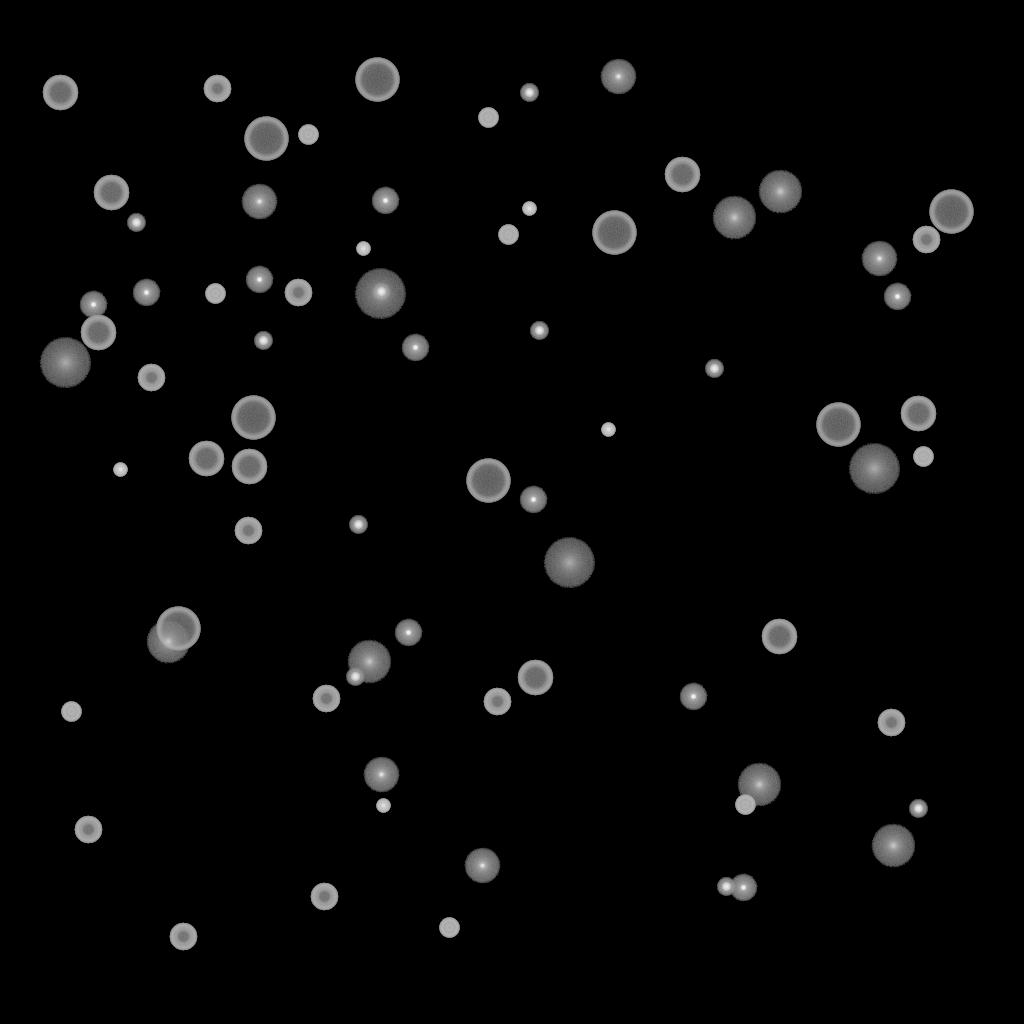depth:-10: (371, 187, 399, 215), (883, 283, 911, 311), (132, 279, 160, 307), (245, 266, 273, 294), (729, 874, 757, 902), (401, 334, 429, 362), (519, 486, 547, 514), (394, 619, 422, 647), (679, 683, 707, 711), (79, 291, 107, 319)
depth:-20: (254, 332, 272, 350), (705, 360, 723, 378), (530, 322, 548, 340), (127, 214, 145, 232), (349, 516, 367, 534), (717, 878, 735, 896), (520, 84, 538, 102), (346, 668, 364, 686), (909, 800, 927, 818), (372, 283, 390, 301)
depth:-30: (376, 799, 390, 813), (356, 242, 370, 256), (601, 423, 615, 437), (522, 202, 536, 216), (113, 463, 127, 477)
depth:-40: (913, 447, 933, 467), (61, 702, 81, 722), (298, 125, 318, 145), (735, 795, 755, 815), (205, 284, 225, 304), (478, 108, 498, 128), (439, 918, 459, 938), (498, 225, 518, 245)
depth:-50: (169, 923, 197, 951), (284, 279, 312, 307), (203, 75, 231, 103), (483, 688, 511, 716), (912, 226, 940, 254), (312, 685, 340, 713), (234, 517, 262, 545), (877, 709, 905, 737), (310, 883, 338, 911), (137, 364, 165, 392), (74, 816, 102, 844)
depth:-60: (93, 175, 129, 211), (231, 449, 267, 485), (188, 441, 224, 477), (517, 660, 553, 696), (80, 315, 116, 351), (900, 396, 936, 432), (761, 619, 797, 655), (42, 75, 78, 111), (664, 157, 700, 193)
depth:-70: (592, 211, 636, 255), (244, 117, 288, 161), (466, 459, 510, 503), (929, 190, 973, 234), (355, 58, 399, 102), (156, 607, 200, 651), (231, 396, 275, 440), (816, 403, 860, 447)
depth:0: (363, 757, 399, 793), (464, 848, 500, 884), (241, 184, 277, 220), (861, 241, 897, 277), (600, 59, 636, 95)
depth:10: (737, 763, 781, 807), (347, 640, 391, 684), (758, 170, 802, 214), (146, 620, 190, 664), (712, 196, 756, 240), (871, 824, 915, 868)
depth:20: (39, 338, 91, 388), (354, 269, 406, 319), (848, 444, 900, 494), (543, 538, 595, 588)
